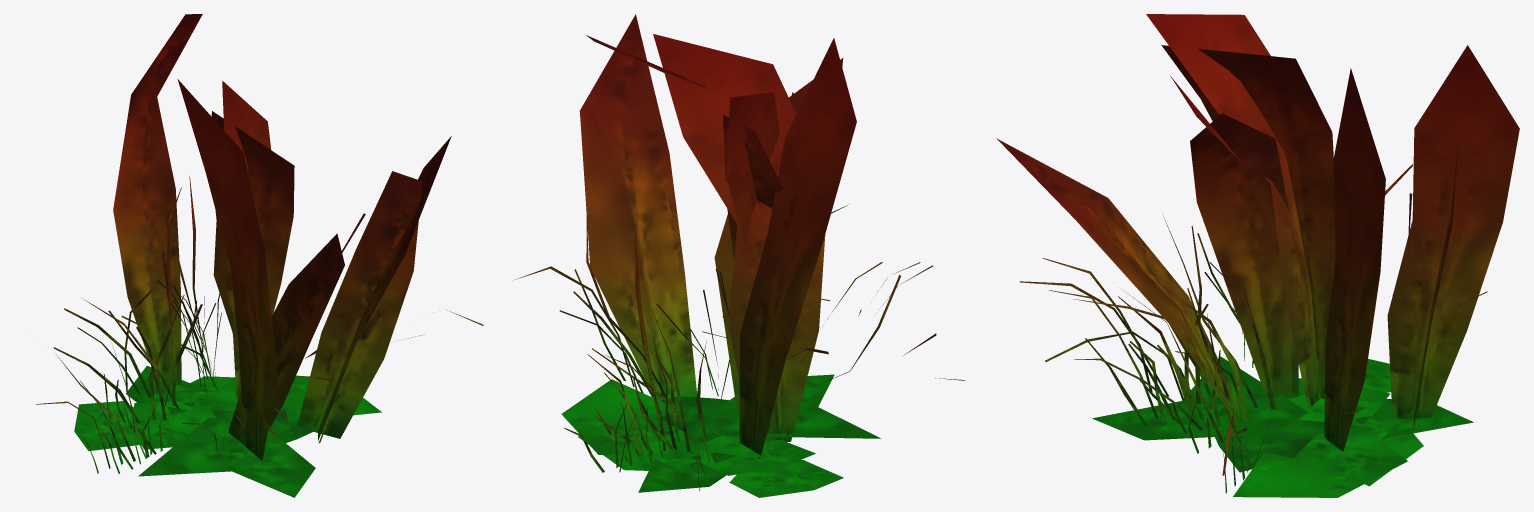
Rendered from Thatching Grass_LOD1_Var14_uddmcgbia.glb.
The picture shows the model from 3 angles, left to right: view 1: azimuth 30°, elevation 25°; view 2: azimuth 150°, elevation 25°; view 3: azimuth 270°, elevation 25°; orthographic projection. The views are drawn at different scales.
Visible parts, largest first — view 1: _7f36_Var14_LOD1; view 2: _7f36_Var14_LOD1; view 3: _7f36_Var14_LOD1.
Part boxes in pixels (bbox=[...]): _7f36_Var14_LOD1: bbox=[36, 14, 483, 497]; _7f36_Var14_LOD1: bbox=[515, 14, 964, 497]; _7f36_Var14_LOD1: bbox=[996, 14, 1519, 497].
Size of the model in its own units: 0.1153 by 0.0947 by 0.1042.
Materials: 1 (1 with a texture image).
